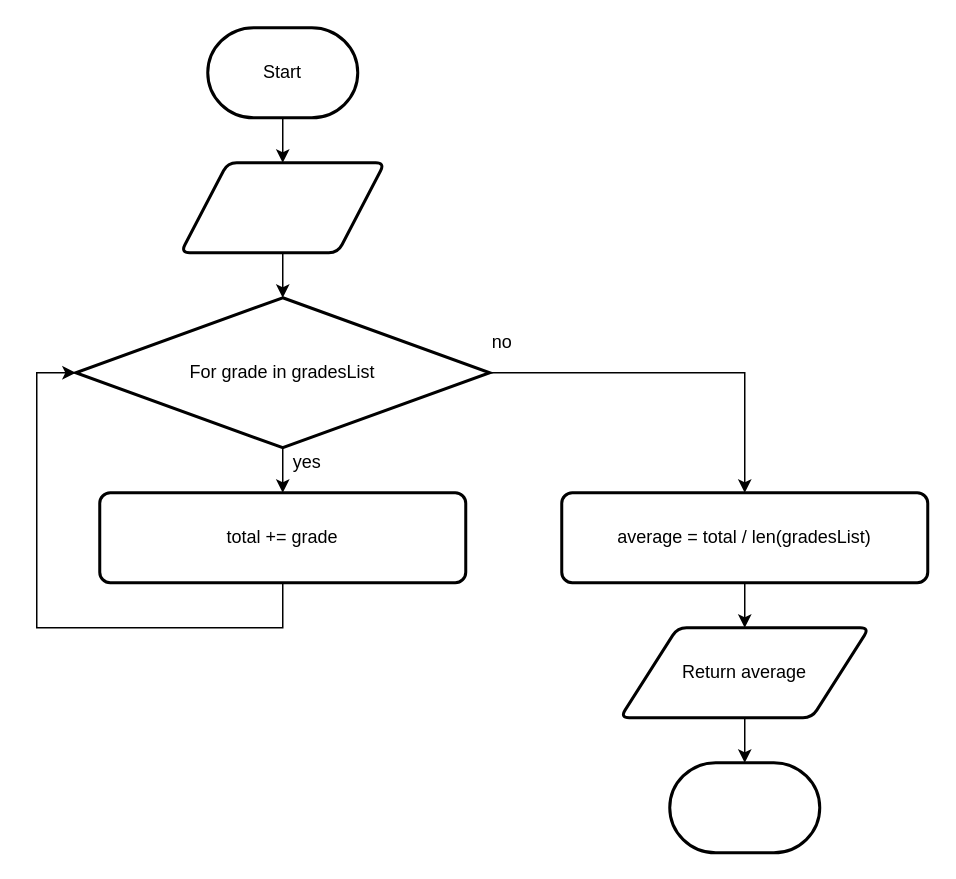
The diagram is 956 pixels wide and 879 high, and some of its shapes have lost their labels. The centre of each missing label's shape, as x and y in pixels:
"Get gradesList" goes at pixel 282 207.
"Stop" goes at pixel 744 807.
